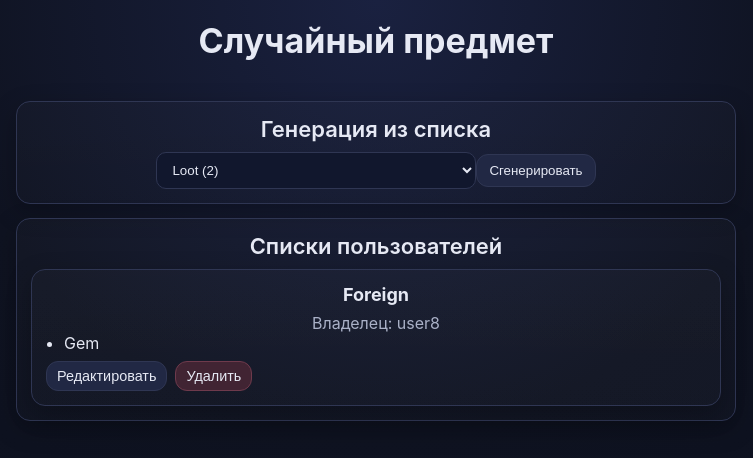
RandomItemView › generates random item from selected list
The width and height of the screenshot is (753, 458).
Click the button "Сгенерировать": x=536, y=170 [476,154,596,187]
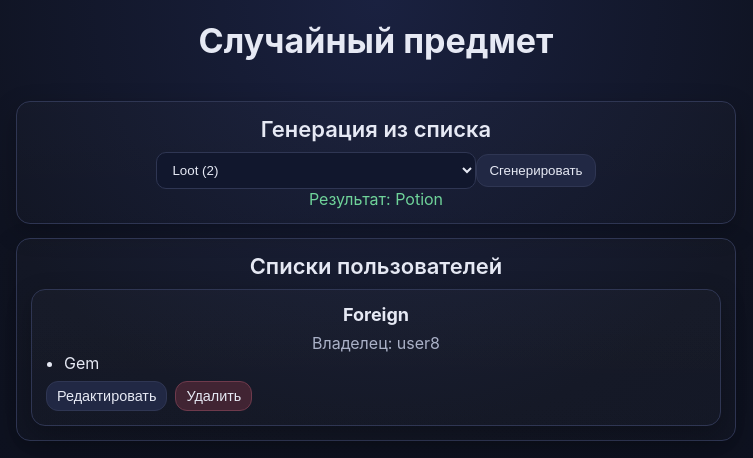
Now the text "Результат: Potion" is shown, box [309,189,443,209]
